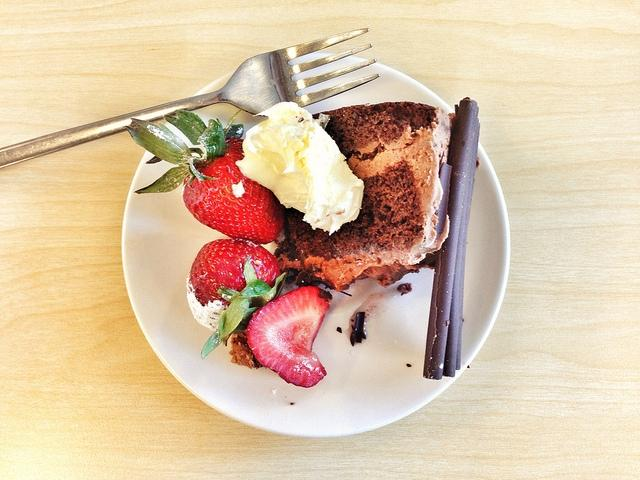strawberry: (124, 109, 286, 244), (190, 238, 286, 360), (246, 286, 332, 387)
